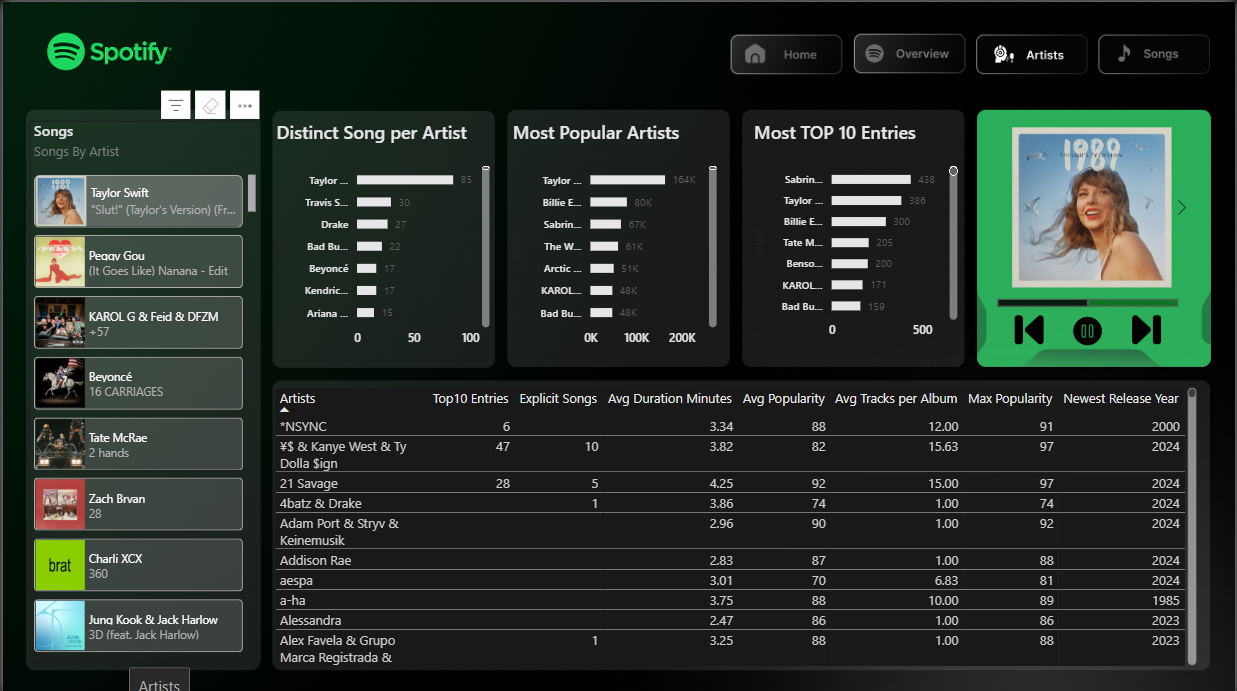

The dashboard page shown, as its layout file describes it:
{"tool":"powerbi","page":{"name":" Artists","canvas":[1280,720],"ordinal":2},"visuals":[{"type":"actionButton","box":[760.1,32.6,109.8,39.8],"z":0},{"type":"actionButton","box":[884.3,32.6,112.2,39.8],"z":1000},{"type":"actionButton","box":[1011,32.6,114.6,39.8],"z":2000},{"type":"actionButton","box":[1137.6,32.9,108.4,39.8],"z":3000},{"type":"hundredPercentStackedBarChart","fields":{"Y":["Avg(Top-50-World.popularity)","_Measure.Avg Popularity"]},"box":[1028.3,272.4,197.6,74.1],"z":4000},{"type":"image","box":[1017.3,323.2,98.8,34.3],"z":5000},{"type":"image","box":[1077.7,319.1,98,45],"z":6000},{"type":"image","box":[1139.5,323.2,98,34],"z":7000},{"type":"advancedSlicerVisual","title":"Songs","fields":{"Values":["Top-50-World.song"]},"box":[1021.9,107.4,218.4,211.1],"z":8000},{"type":"advancedSlicerVisual","title":"Songs","fields":{"Values":["Top-50-World.song"]},"box":[27.7,123.1,240.1,562.2],"z":9000},{"type":"shape","box":[996.5,84.5,283.5,311.3],"z":10000},{"type":"clusteredBarChart","title":"Distinct Song per Artist","fields":{"Category":["Top-50-World.artist"],"Y":["_Measure.Distinct Songs"]},"box":[278.7,121.9,231.6,244.9],"z":11000},{"type":"clusteredBarChart","title":"Most Popular Artists","fields":{"Category":["Top-50-World.artist"],"Y":["Sum(Top-50-World.popularity)"]},"box":[524.8,121.9,222,244.9],"z":12000},{"type":"clusteredBarChart","title":"Most TOP 10 Entries","fields":{"Category":["Top-50-World.artist"],"Y":["_Measure.Top10 Entries"]},"box":[774.9,122.4,221.4,237],"z":13000},{"type":"tableEx","fields":{"Values":["Top-50-World.artist","_Measure.Top10 Entries","_Measure.Explicit Songs","_Measure.Avg Duration Minutes","_Measure.Avg Popularity","_Measure.Avg Tracks per Album","_Measure.Max Popularity","_Measure.Newest Release Year"]},"box":[276.1,396.3,968.1,298.2],"z":14000}]}

Visuals, with their boxes on the page's 1280x720 design canvas (x1, y1, x2, y2). These are canvas units, not pixel positions in the 1237x691 screenshot, which may show the page scaled, cropped or inside an application window:
actionButton: [x1=760, y1=33, x2=870, y2=72]
actionButton: [x1=884, y1=33, x2=996, y2=72]
actionButton: [x1=1011, y1=33, x2=1126, y2=72]
actionButton: [x1=1138, y1=33, x2=1246, y2=73]
hundredPercentStackedBarChart - Avg(Top-50-World.popularity) x _Measure.Avg Popularity: [x1=1028, y1=272, x2=1226, y2=346]
image: [x1=1017, y1=323, x2=1116, y2=358]
image: [x1=1078, y1=319, x2=1176, y2=364]
image: [x1=1140, y1=323, x2=1238, y2=357]
"Songs" advancedSlicerVisual: [x1=1022, y1=107, x2=1240, y2=318]
"Songs" advancedSlicerVisual: [x1=28, y1=123, x2=268, y2=685]
shape: [x1=996, y1=84, x2=1280, y2=396]
"Distinct Song per Artist" clusteredBarChart: [x1=279, y1=122, x2=510, y2=367]
"Most Popular Artists" clusteredBarChart: [x1=525, y1=122, x2=747, y2=367]
"Most TOP 10 Entries" clusteredBarChart: [x1=775, y1=122, x2=996, y2=359]
tableEx - Top-50-World.artist x _Measure.Top10 Entries: [x1=276, y1=396, x2=1244, y2=694]
